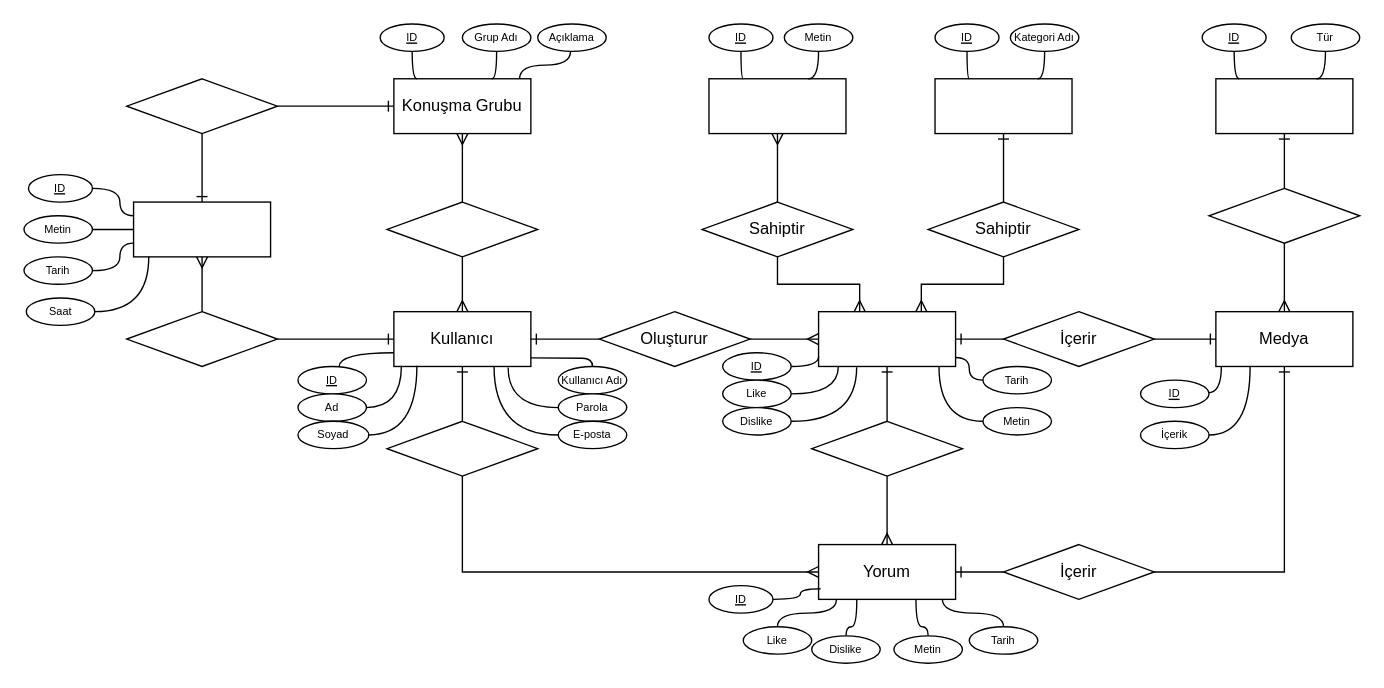
Some shapes in this 1384 by 688 pixel diagram are drawn without their labels. The centre of each missing label's shape, as x and y in pixels:
"Dahildir" goes at (x=462, y=229).
"Gönderi" goes at (x=886, y=338).
"Gönderir" goes at (x=201, y=338).
"İletilir" goes at (x=201, y=105).
"Kategori" goes at (x=1003, y=105).
"Medya Türleri" goes at (x=1284, y=105).
"Mesaj" goes at (x=201, y=229).
"Tag" goes at (x=777, y=105).
"Türü Vardır" goes at (x=1284, y=215).
"Yapar" goes at (x=462, y=448).
"Yorum yapılır" goes at (x=886, y=448).
